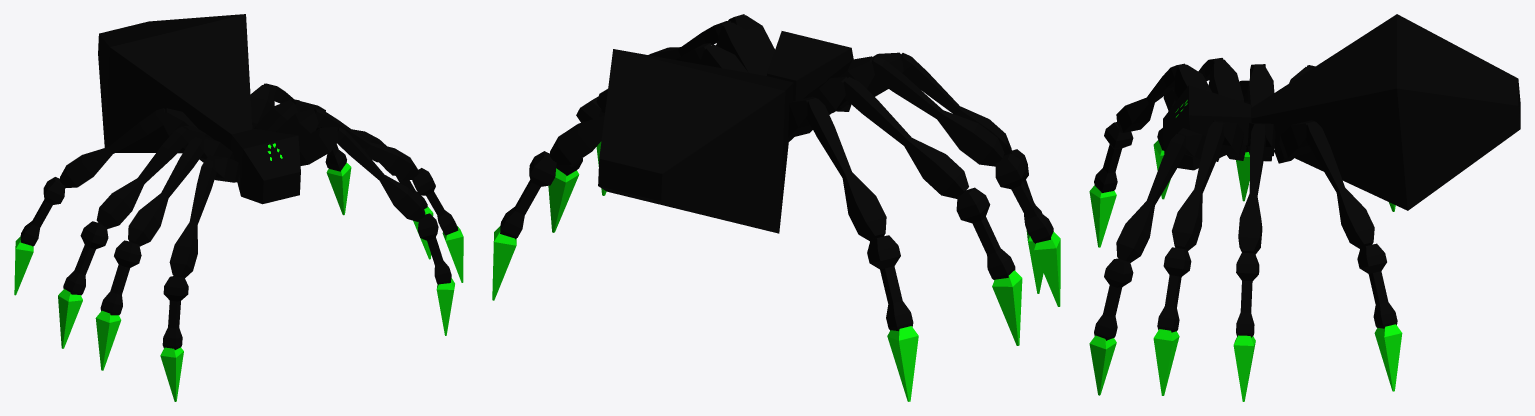
File: spider.obj
The picture shows the model from 3 angles, left to right: view 1: azimuth 30°, elevation 25°; view 2: azimuth 150°, elevation 25°; view 3: azimuth 270°, elevation 25°; orthographic projection. The views are drawn at different scales.
Parts seen in each view (by area): view 1: 立方体; view 2: 立方体; view 3: 立方体.
Boxes of the visible parts, x1,y1,x2,y2 form: 立方体: (14, 14, 463, 401); 立方体: (492, 14, 1060, 401); 立方体: (1089, 14, 1520, 401).
Bounding box in the file's own units: 6.5 × 4.06 × 5.87.
Materials: 1 (1 with a texture image).
